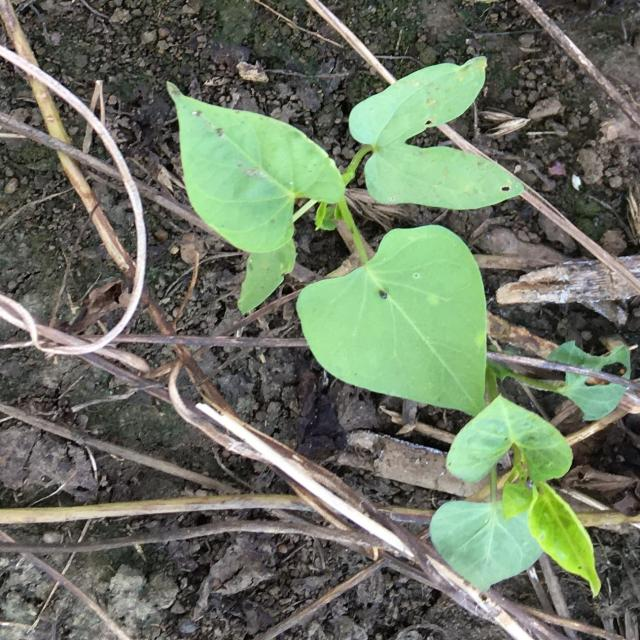MorningGlory: (166, 55, 632, 599)
